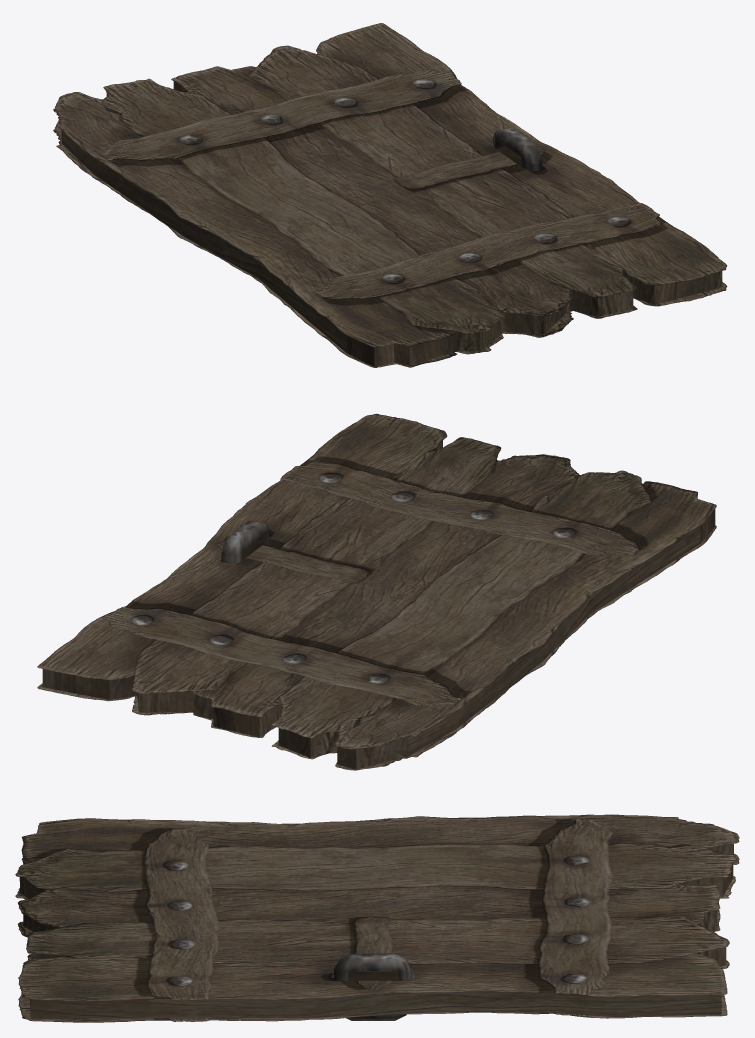
The model's file is MEP_Door_01.fbx.
3 views of the same model, one above another, from view 1: azimuth 30°, elevation 25°; view 2: azimuth 150°, elevation 25°; view 3: azimuth 270°, elevation 25° (orthographic). The views are drawn at different scales.
Visible parts, largest first — view 1: MEP_Door_01; view 2: MEP_Door_01; view 3: MEP_Door_01.
Part boxes in pixels (box(x1,y1,x2,y2)): MEP_Door_01: box(53, 23, 727, 367); MEP_Door_01: box(37, 413, 716, 770); MEP_Door_01: box(15, 814, 739, 1022).
Size of the model in its own units: 1.5 by 0.2241 by 2.4.
